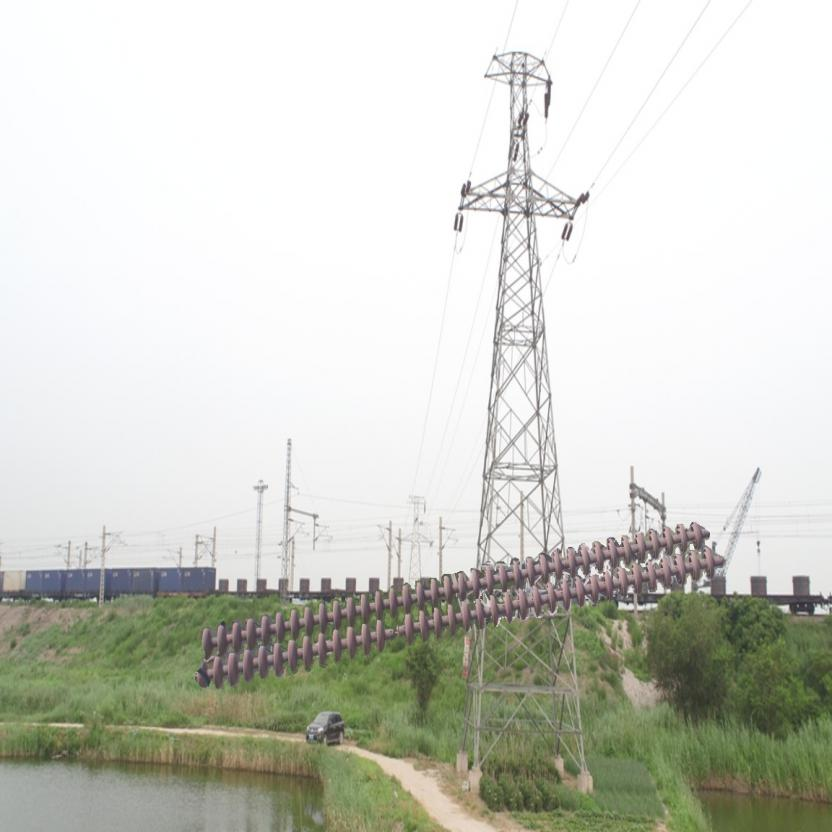defect: (370, 610, 416, 656)
